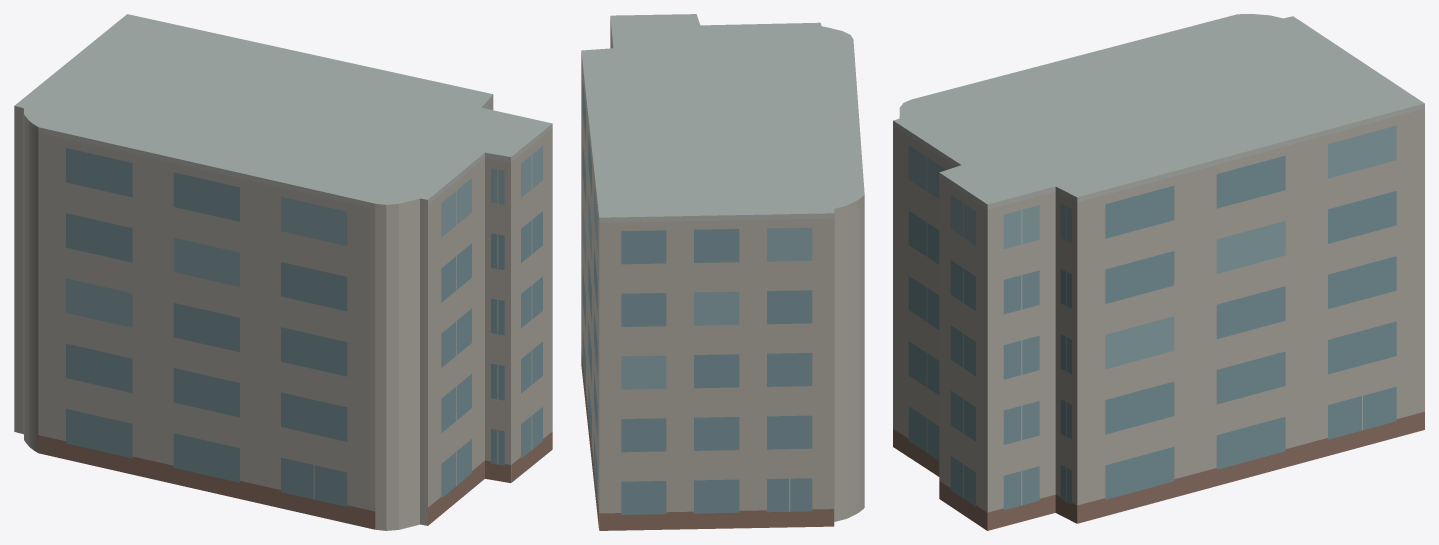
The model's file is survey-upis-32731082.glb.
3 renders of one model, left to right at view 1: azimuth 30°, elevation 25°; view 2: azimuth 150°, elevation 25°; view 3: azimuth 270°, elevation 25°, orthographic. The views are drawn at different scales.
Visible parts, largest first — view 1: survey-upis-32731082.tmp; view 2: survey-upis-32731082.tmp; view 3: survey-upis-32731082.tmp.
Part boxes in pixels (left/top/right/bottom): survey-upis-32731082.tmp: left=14, top=14, right=552, bottom=530; survey-upis-32731082.tmp: left=581, top=14, right=864, bottom=530; survey-upis-32731082.tmp: left=893, top=14, right=1424, bottom=530.
Size of the model in its own units: 18.91 by 15.1 by 22.3.
